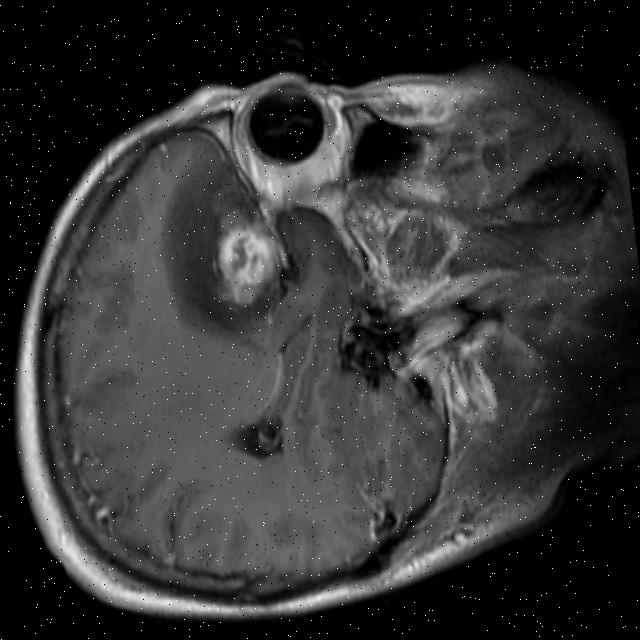Meningioma: (204, 215, 289, 312)
